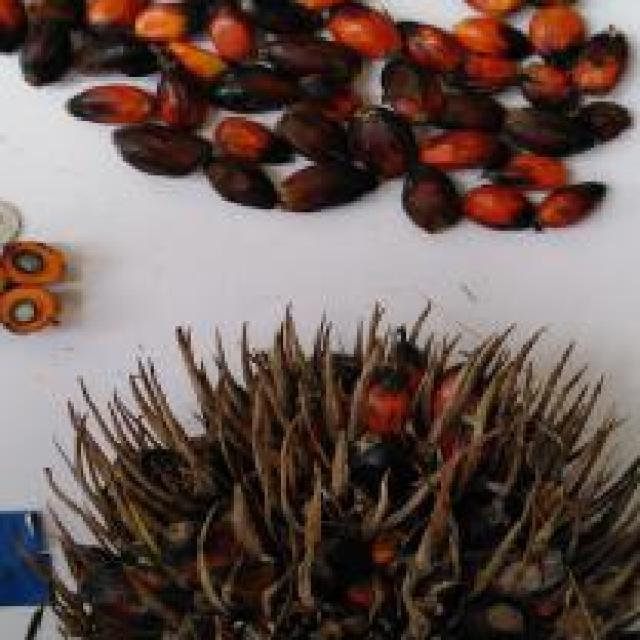unripe: (43, 292, 640, 640)
